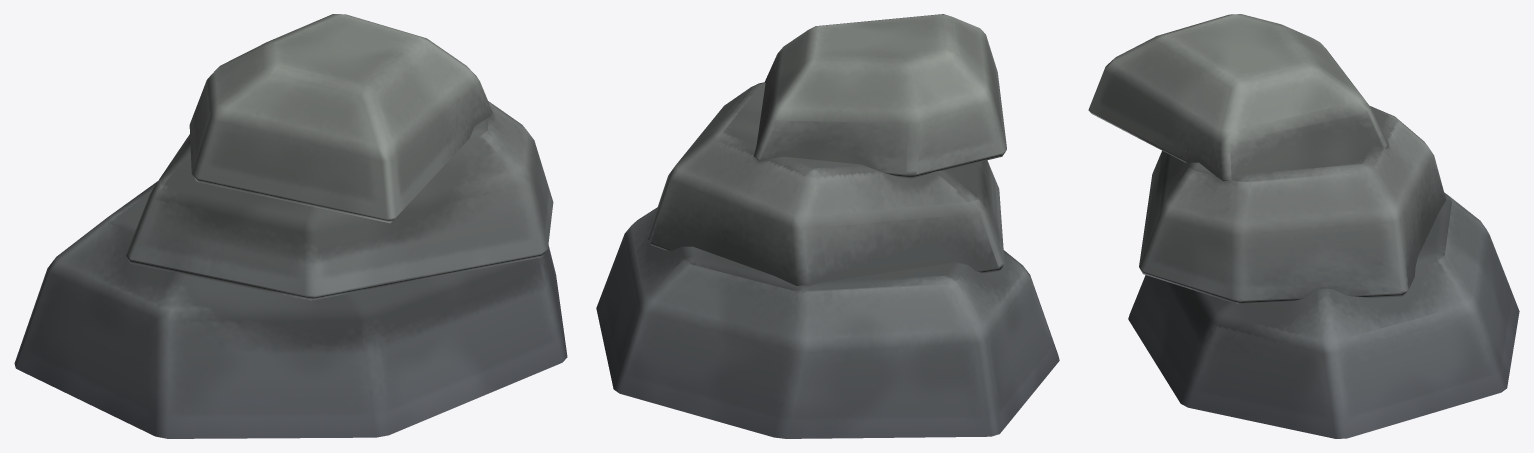
File: stack_3.glb
3 views of the same model, side by side, from view 1: azimuth 30°, elevation 25°; view 2: azimuth 150°, elevation 25°; view 3: azimuth 270°, elevation 25° (orthographic). The views are drawn at different scales.
Parts seen in each view (by area): view 1: stack_3; view 2: stack_3; view 3: stack_3.
Boxes of the visible parts, x1=… form: stack_3: x1=14, y1=14, x2=567, y2=438; stack_3: x1=596, y1=14, x2=1059, y2=438; stack_3: x1=1088, y1=14, x2=1519, y2=438.
Size of the model in its own units: 0.5 by 0.32 by 0.44.
1 material, 1 textured.
